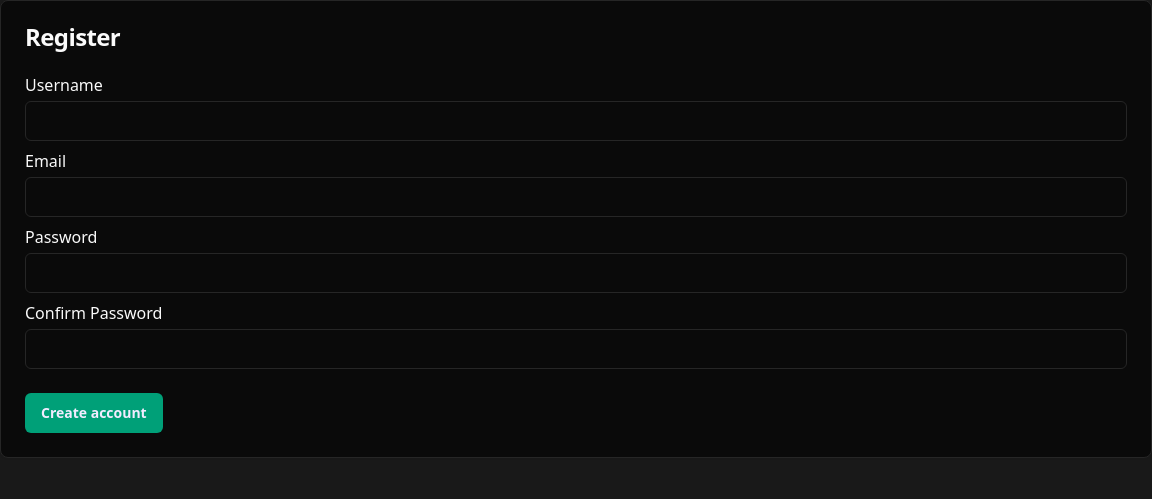
Test: AddUser › displays error when passwords do not match
Step 1. Type "testpassword" into the password field labelled "Password" → (576, 273), box [25, 253, 1127, 293]
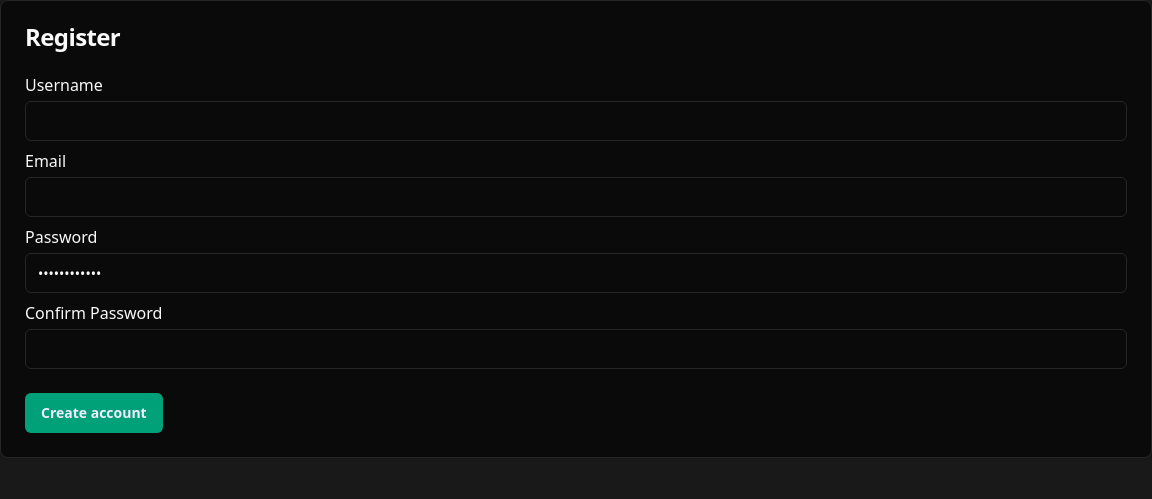
Step 2. Type "differentpassword" into the password field labelled "Confirm Password" → (576, 349), box [25, 329, 1127, 369]
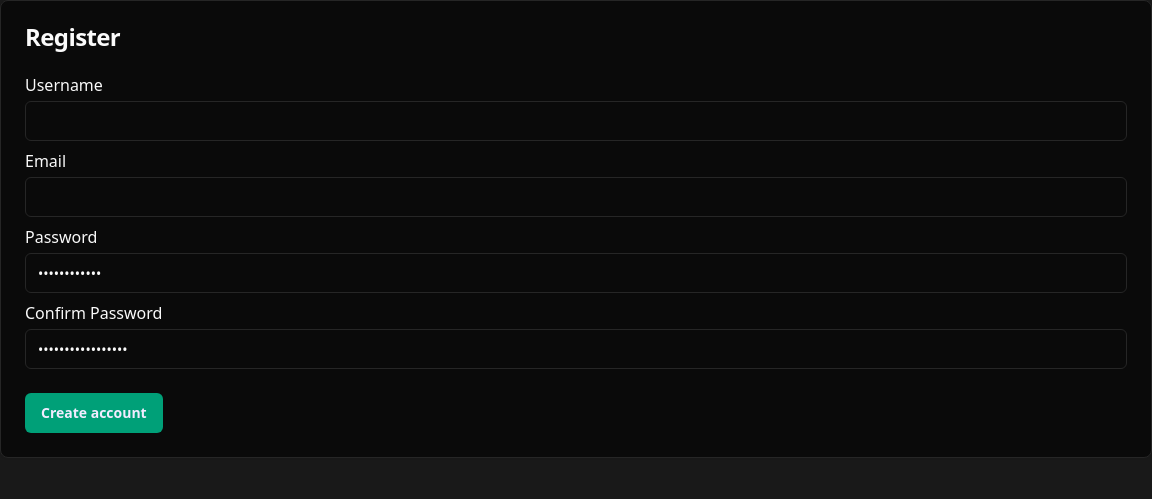
Step 3. Click the button "Create account" → click(94, 413), box [25, 393, 163, 433]
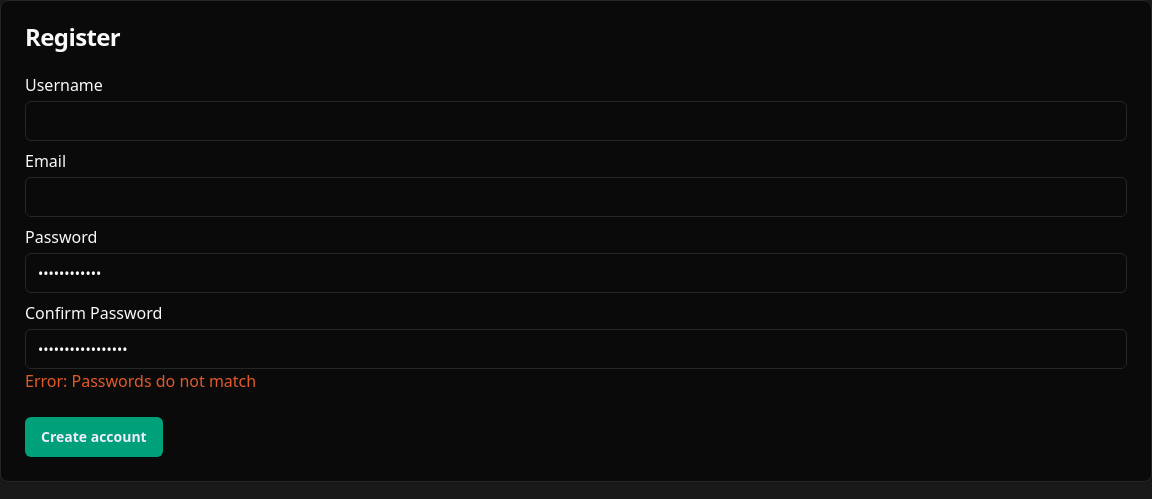
Result: the text "Error: Passwords do not match" is shown at [25, 370, 256, 392]
